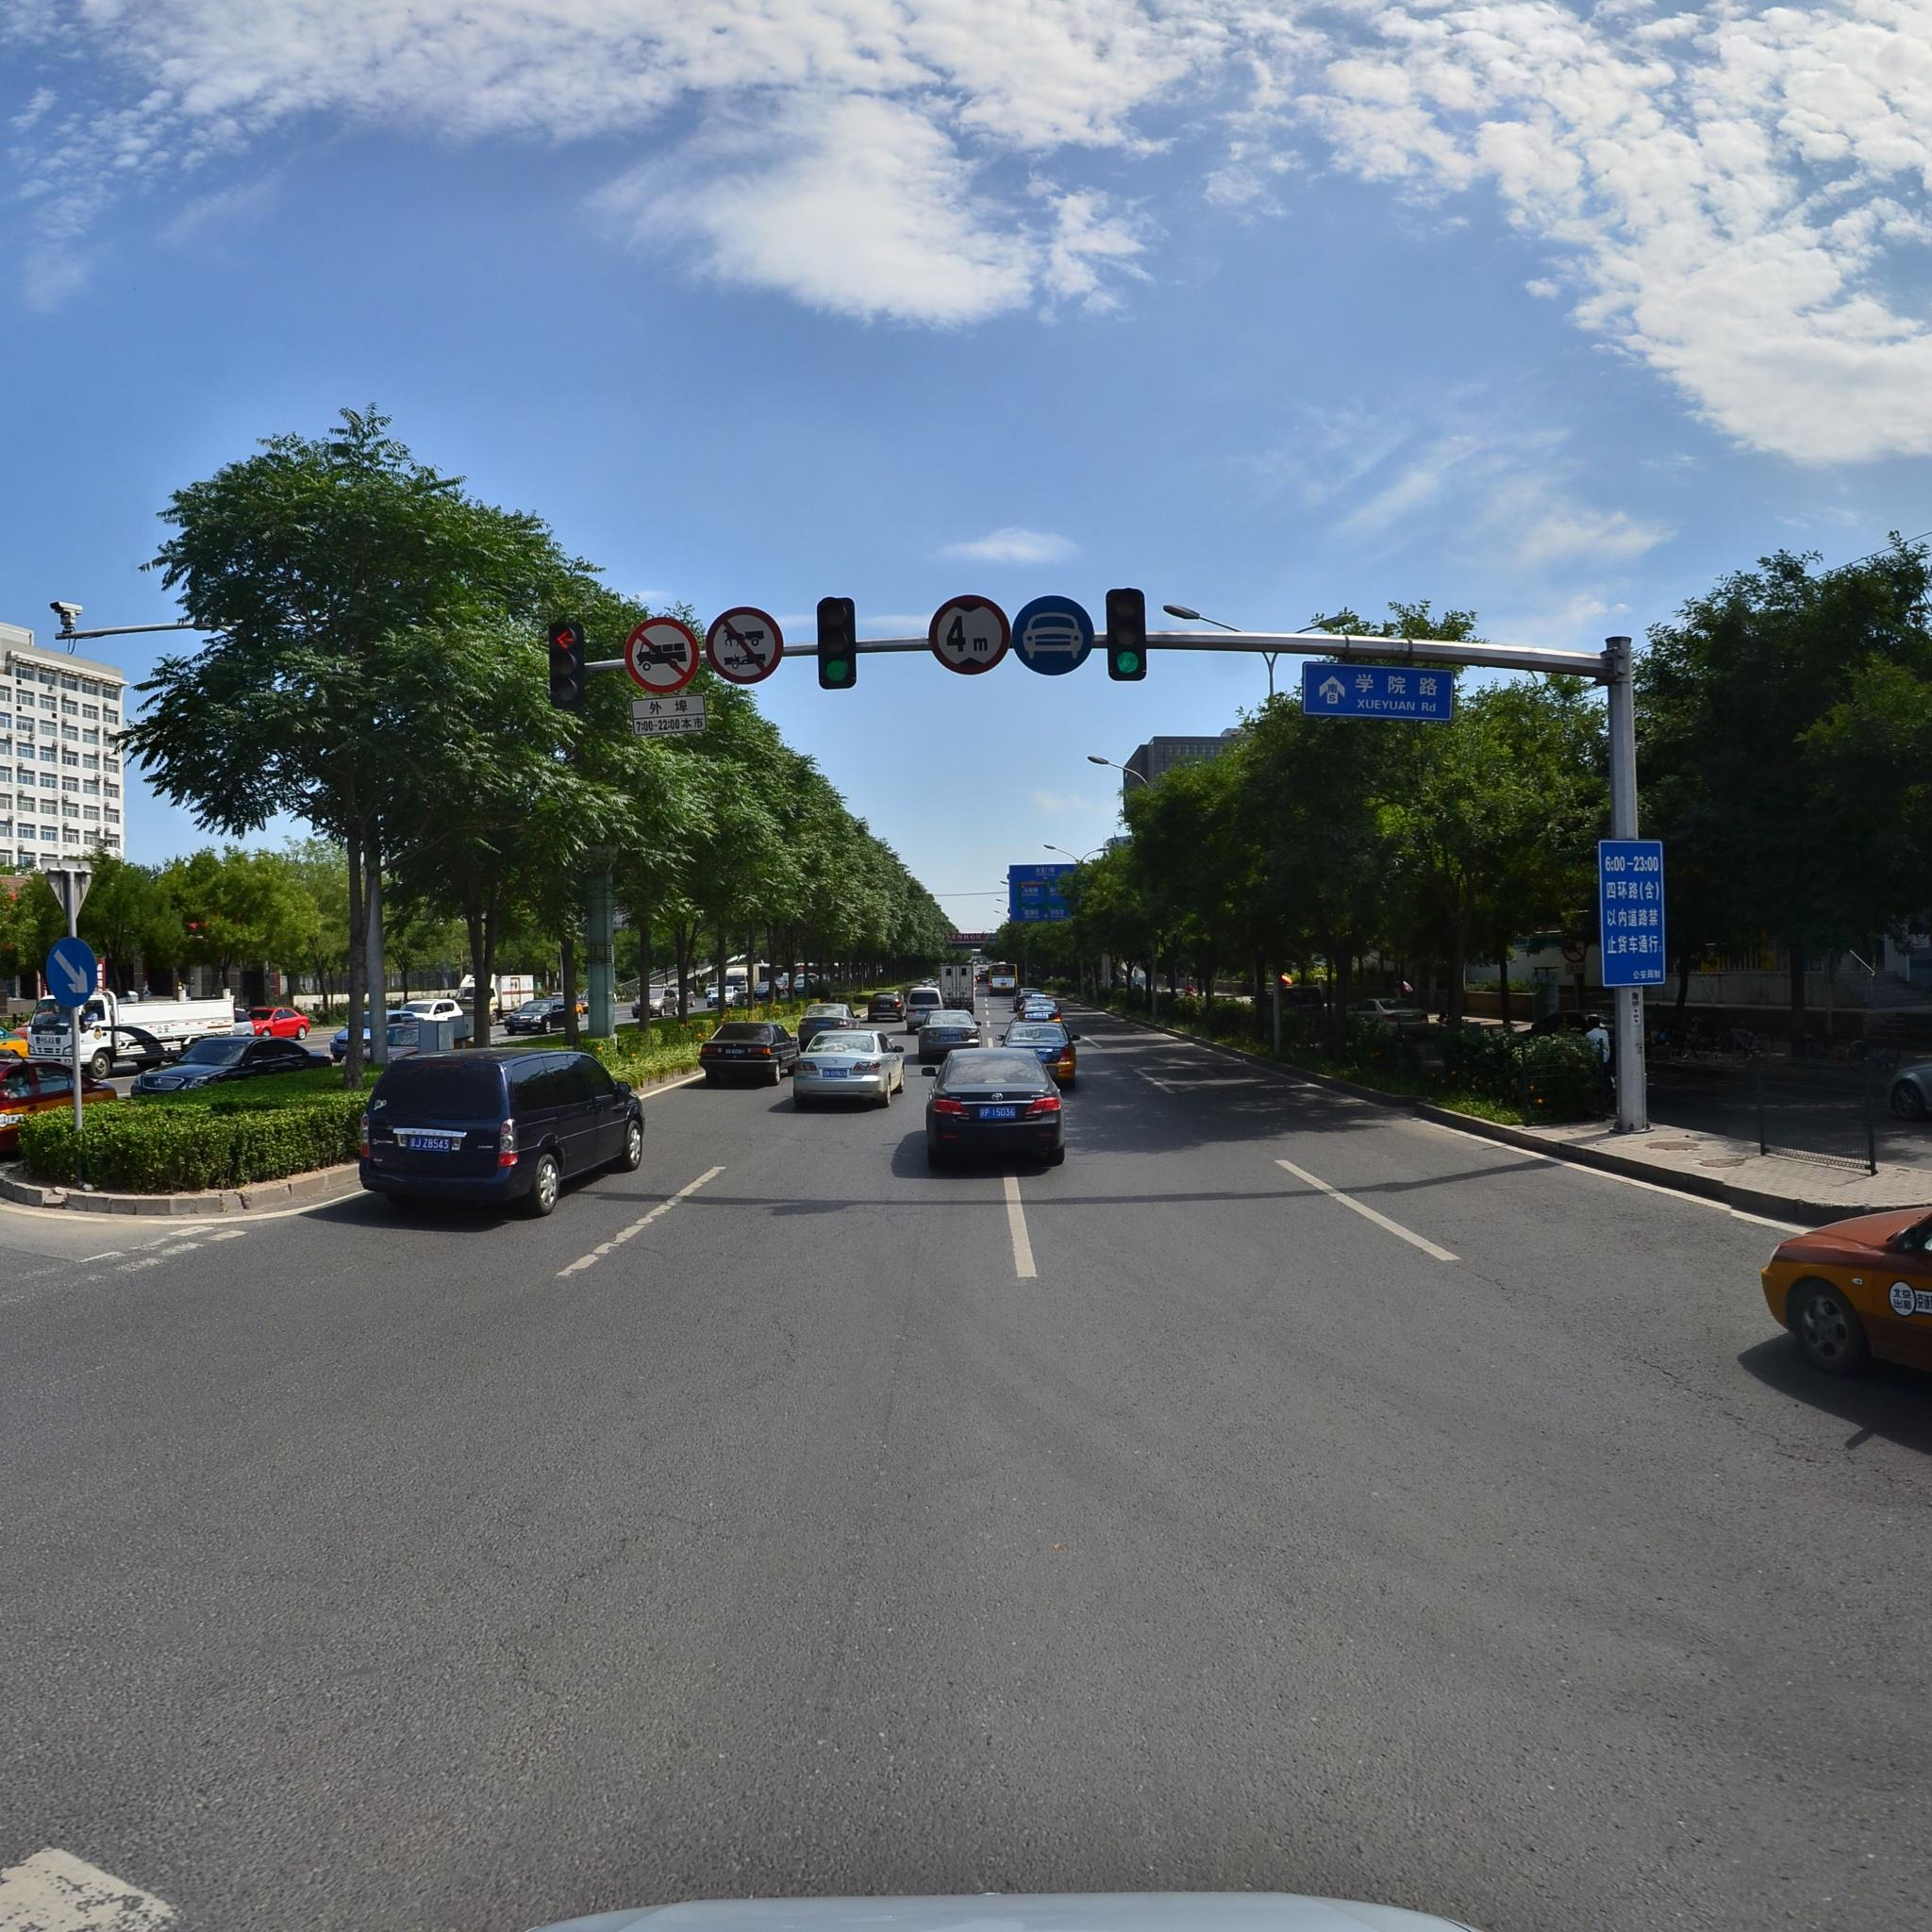i4: (1017, 596, 1095, 678)
p26: (625, 619, 697, 690)
ph4: (931, 594, 1010, 678)
